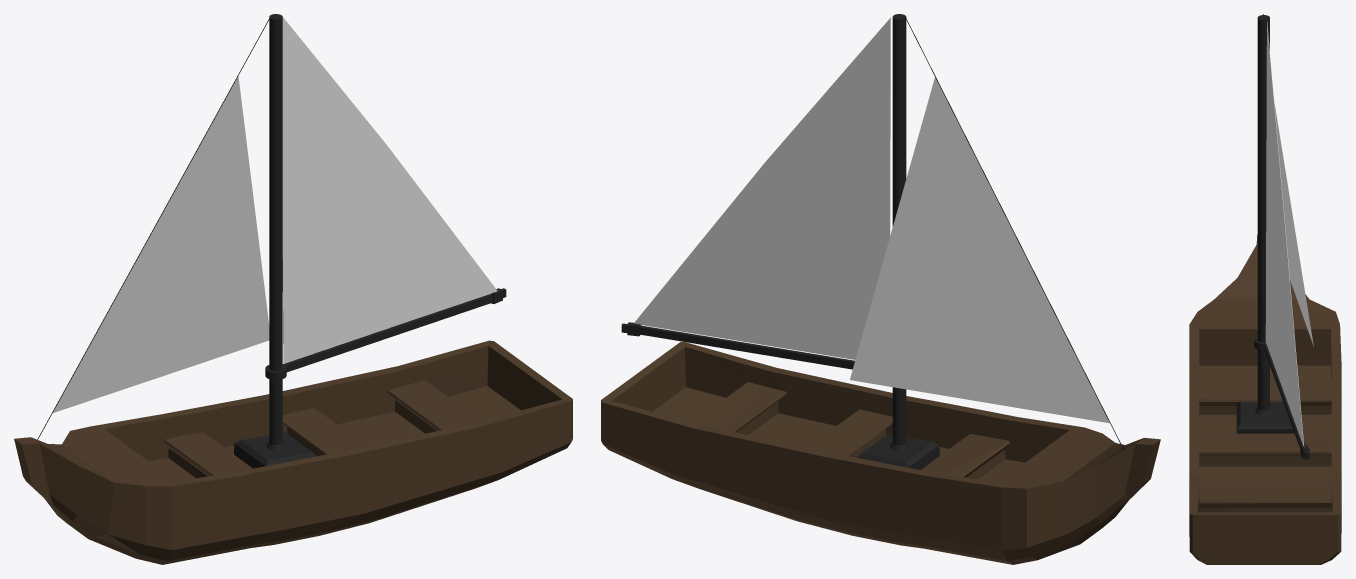
The model's file is wip_boat_optimized_with_2sail_2.fbx.
3 renders of one model, left to right at view 1: azimuth 30°, elevation 25°; view 2: azimuth 150°, elevation 25°; view 3: azimuth 270°, elevation 25°, orthographic. The views are drawn at different scales.
Parts seen in each view (by area): view 1: Boat, Back Sail, Plane, Mast; view 2: Boat, Back Sail, Plane, Mast; view 3: Boat, Back Sail, Mast, Plane.
Part boxes in pixels (box(x1,y1,x2,y2)): Boat: box(14, 340, 572, 564); Back Sail: box(282, 17, 497, 363); Plane: box(53, 76, 269, 412); Mast: box(265, 14, 506, 450); Boat: box(601, 342, 1160, 564); Back Sail: box(634, 17, 890, 359); Plane: box(850, 77, 1109, 423); Mast: box(621, 14, 908, 450); Boat: box(1189, 234, 1341, 564); Back Sail: box(1265, 22, 1304, 446); Mast: box(1254, 15, 1309, 459); Plane: box(1274, 102, 1313, 346).
Size of the model in its own units: 1741 by 1614 by 485.
